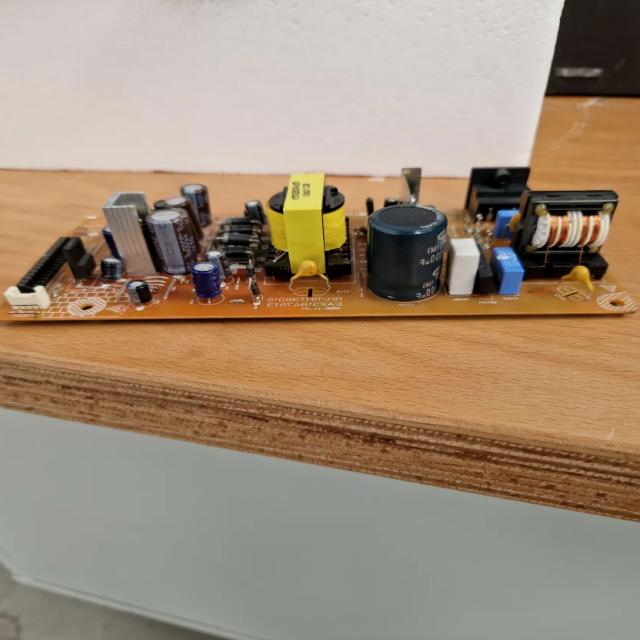C: (371, 206, 446, 300), (146, 209, 196, 275), (180, 184, 210, 226), (168, 197, 202, 233), (192, 264, 220, 298), (127, 279, 151, 303), (245, 200, 265, 224), (102, 258, 122, 278), (384, 197, 398, 206)
E: (290, 260, 328, 282), (560, 266, 592, 292)
F: (469, 167, 531, 219)
